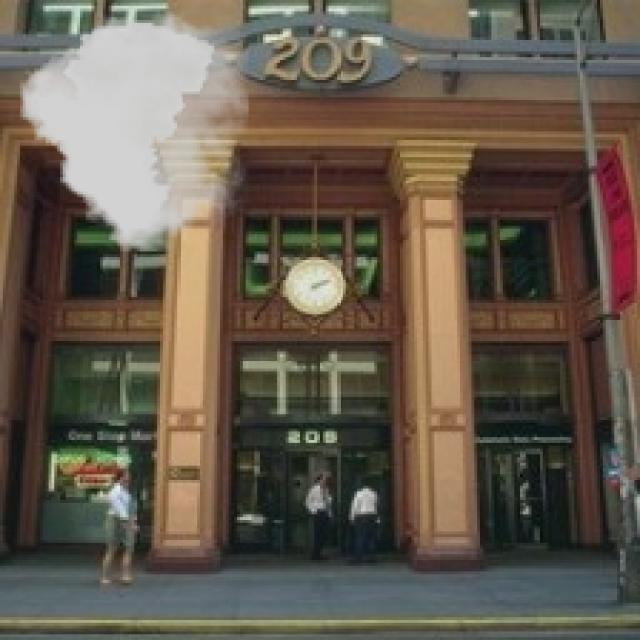smoke: (20, 12, 249, 252)
